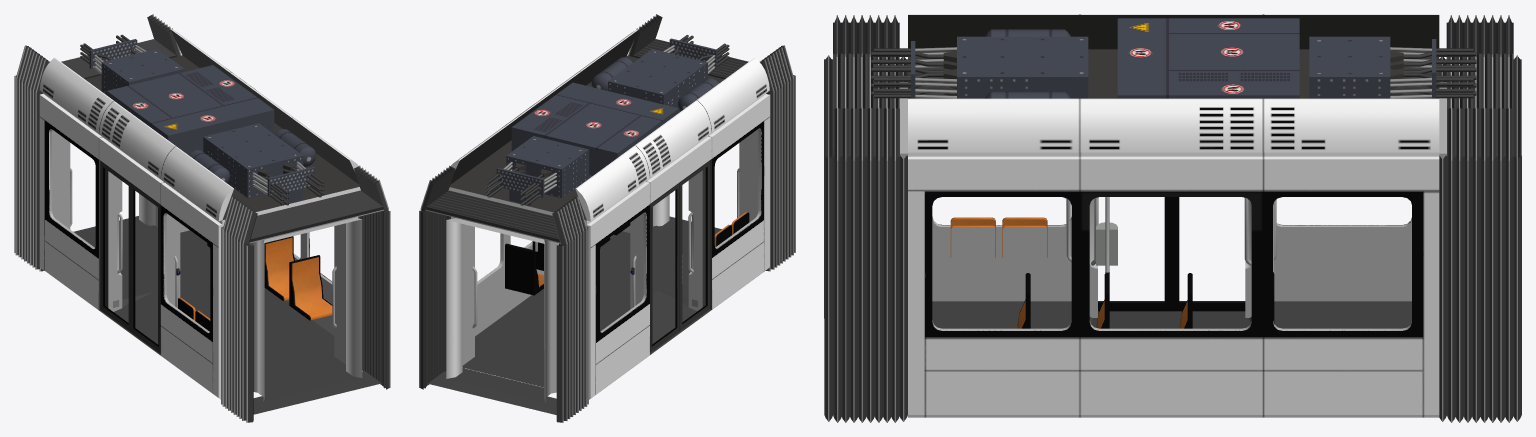
The picture shows the model from 3 angles, left to right: view 1: azimuth 30°, elevation 25°; view 2: azimuth 150°, elevation 25°; view 3: azimuth 270°, elevation 25°; orthographic projection. The views are drawn at different scales.
Parts seen in each view (by area): view 1: body, garm, int, d_rr, d_rl; view 2: body, garm, int, d_rl, d_rr; view 3: body, garm, int, d_rr, d_rl.
Part boxes in pixels (<box>): body: <box>39,29,360,399</box>; garm: <box>14,14,390,422</box>; int: <box>49,129,345,387</box>; d_rr: <box>100,161,130,332</box>; d_rl: <box>131,183,160,353</box>; body: <box>448,29,769,399</box>; garm: <box>419,14,795,422</box>; int: <box>462,128,761,387</box>; d_rl: <box>679,160,710,331</box>; d_rr: <box>650,182,679,353</box>; body: <box>871,14,1476,417</box>; garm: <box>824,15,1521,422</box>; int: <box>899,82,1446,330</box>; d_rr: <box>1172,197,1245,311</box>; d_rl: <box>1098,197,1171,311</box>.
Size of the model in its own units: 2.3 by 3.17 by 6.4.
9 materials, 9 textured.
